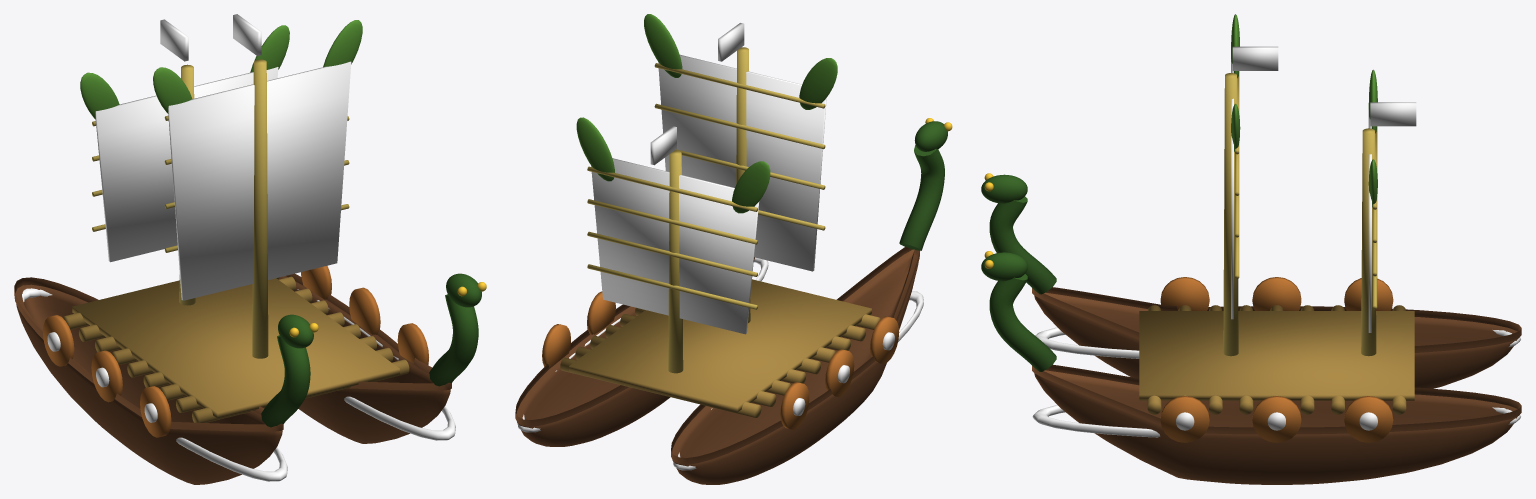
Rendered from barco_amazonas.glb.
The picture shows the model from 3 angles, left to right: view 1: azimuth 30°, elevation 25°; view 2: azimuth 150°, elevation 25°; view 3: azimuth 270°, elevation 25°; orthographic projection. The views are drawn at different scales.
Visible parts, largest first — view 1: Barco_amazonas_fijo; view 2: Barco_amazonas_fijo; view 3: Barco_amazonas_fijo.
Part boxes in pixels (bbox=[...]): Barco_amazonas_fijo: bbox=[14, 14, 486, 484]; Barco_amazonas_fijo: bbox=[515, 14, 952, 484]; Barco_amazonas_fijo: bbox=[981, 14, 1521, 484].
Bounding box in the file's own units: 1.93 × 2.85 × 3.53.
2 materials, 2 textured.
